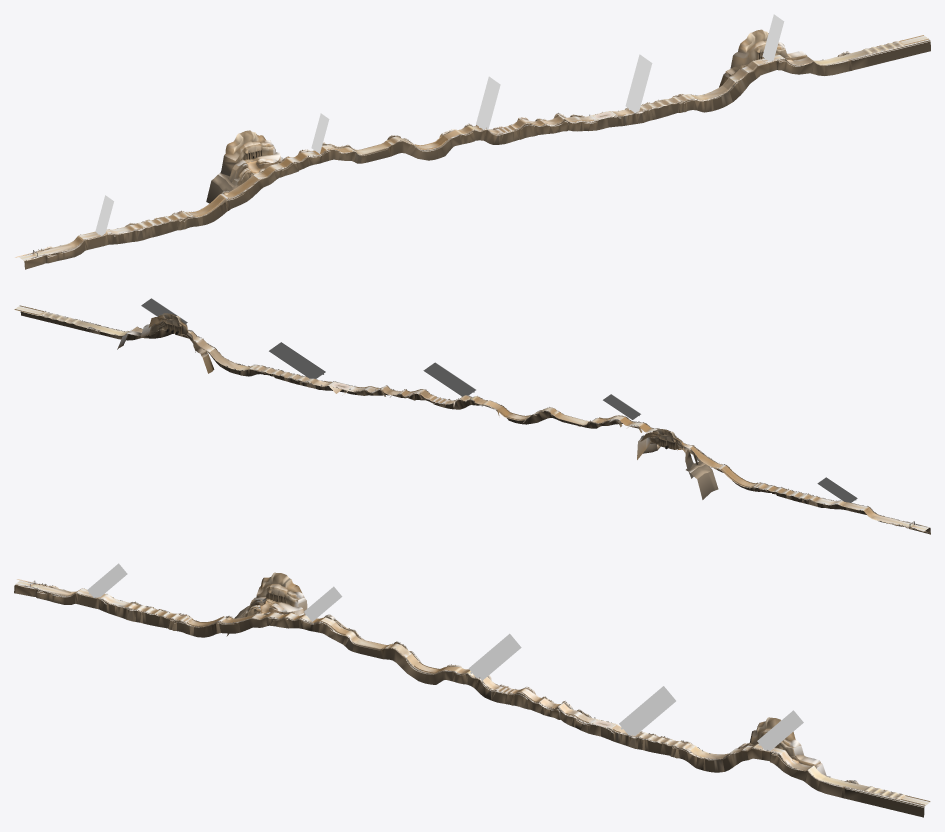
Rendered from Desert_15.fbx.
3 renders of one model, top to bottom at view 1: azimuth 30°, elevation 25°; view 2: azimuth 150°, elevation 25°; view 3: azimuth 330°, elevation 25°, orthographic.
Parts seen in each view (by area): view 1: Mountain_01, Road_01, Light_01, Ground_01, Tree_01; view 2: Mountain_01, Road_01, Light_01, Ground_01, Tree_01; view 3: Mountain_01, Road_01, Light_01, Ground_01, Tree_01.
Part boxes in pixels (box(x1,y1,x2,y2)): Mountain_01: box(24, 29, 930, 269); Road_01: box(19, 35, 927, 260); Light_01: box(95, 14, 784, 235); Ground_01: box(23, 41, 909, 260); Tree_01: box(31, 40, 924, 258); Mountain_01: box(20, 311, 930, 534); Road_01: box(15, 306, 928, 530); Light_01: box(141, 298, 857, 502); Ground_01: box(14, 309, 928, 531); Tree_01: box(20, 308, 918, 527); Mountain_01: box(14, 572, 925, 817); Road_01: box(16, 580, 930, 805); Light_01: box(87, 563, 803, 750); Ground_01: box(16, 581, 920, 804); Tree_01: box(25, 583, 919, 804).
Size of the model in its own units: 149545 by 12967 by 6884.
